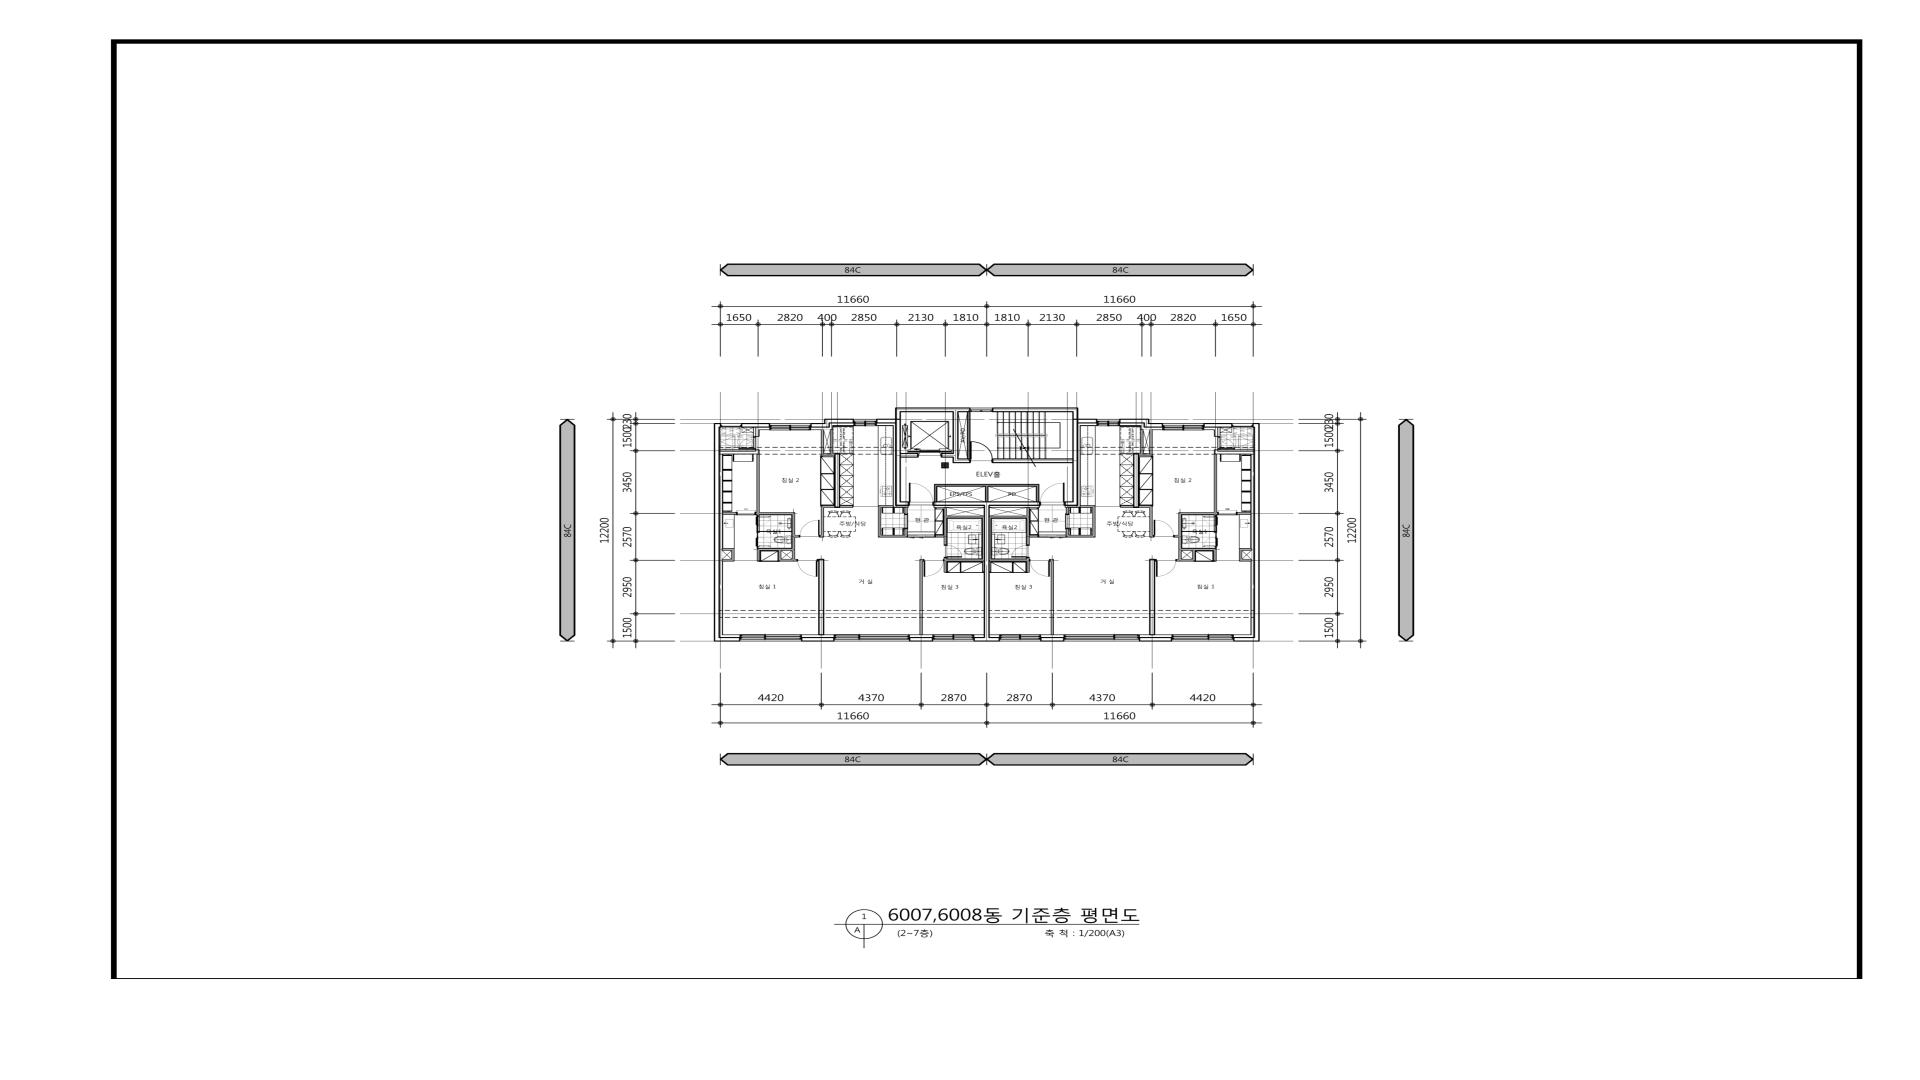background: (0, 0, 1920, 1080)
door: (909, 483, 932, 505), (1040, 483, 1064, 505), (1154, 520, 1175, 538), (796, 559, 819, 576), (1155, 559, 1178, 576), (799, 520, 820, 537), (923, 559, 944, 576), (1030, 559, 1050, 576), (944, 545, 963, 558), (1011, 545, 1030, 558), (738, 436, 756, 450), (736, 512, 756, 516), (907, 535, 935, 538), (1218, 512, 1237, 516)
wall: (713, 423, 721, 637), (1253, 423, 1259, 637), (984, 506, 989, 637), (932, 501, 1040, 506), (1072, 418, 1079, 501), (818, 559, 824, 636), (895, 418, 901, 501), (1150, 559, 1155, 636), (997, 407, 1072, 413), (901, 407, 971, 413), (1133, 454, 1139, 508), (952, 413, 959, 463), (1050, 559, 1054, 636), (919, 559, 923, 634), (997, 459, 1072, 463), (835, 454, 840, 508), (938, 484, 1036, 487), (791, 512, 795, 559), (967, 413, 971, 459), (819, 508, 824, 538), (1179, 512, 1218, 516), (1215, 454, 1217, 513), (757, 454, 760, 512), (1026, 508, 1030, 545), (756, 512, 791, 516), (713, 637, 740, 642), (973, 637, 1000, 642), (1150, 505, 1154, 538), (1092, 505, 1096, 538), (1139, 637, 1172, 641), (760, 547, 793, 551), (802, 637, 833, 641), (1040, 637, 1064, 642), (1120, 419, 1150, 423), (1179, 514, 1182, 559), (989, 516, 992, 559), (981, 516, 984, 559), (1204, 423, 1233, 427), (824, 419, 853, 423), (741, 423, 770, 427), (989, 559, 1027, 562), (1234, 637, 1259, 641), (947, 559, 984, 562), (944, 508, 947, 545), (1079, 418, 1097, 423), (877, 418, 895, 423), (1182, 549, 1217, 551), (992, 516, 1026, 518), (947, 516, 981, 518), (901, 452, 918, 458), (910, 637, 932, 641), (878, 505, 881, 537), (1143, 423, 1163, 427), (1064, 501, 1079, 506), (811, 423, 829, 427), (1065, 535, 1092, 538), (881, 535, 907, 538), (1072, 407, 1079, 418), (895, 501, 909, 506), (934, 484, 938, 501), (1141, 430, 1143, 455), (1150, 430, 1153, 454), (942, 452, 953, 458), (831, 430, 833, 454), (822, 430, 824, 454), (895, 407, 901, 419), (985, 487, 989, 501), (1176, 559, 1195, 562), (1217, 450, 1254, 451), (778, 559, 796, 562), (1213, 550, 1217, 562), (959, 459, 971, 463), (720, 450, 756, 451), (1036, 484, 1039, 501), (944, 558, 947, 572), (1027, 558, 1030, 572), (1237, 512, 1251, 514), (820, 505, 835, 508), (1240, 549, 1242, 562), (1080, 505, 1093, 508), (840, 505, 853, 508), (757, 549, 760, 562), (732, 549, 735, 562), (1121, 505, 1133, 508), (881, 505, 893, 508), (1139, 505, 1150, 508), (721, 559, 732, 562), (721, 549, 732, 551), (1065, 529, 1069, 535), (1242, 549, 1251, 551), (1192, 550, 1195, 559), (1217, 427, 1220, 436), (1242, 559, 1251, 562), (935, 535, 944, 538), (959, 434, 968, 436), (753, 427, 756, 436), (1065, 506, 1068, 514), (1030, 535, 1038, 538), (778, 551, 781, 559), (905, 508, 907, 514), (905, 529, 907, 535), (822, 454, 835, 455), (723, 513, 736, 514), (795, 535, 799, 538), (1175, 535, 1179, 538), (1139, 455, 1153, 455)
window: (833, 634, 910, 641), (1064, 634, 1139, 641), (740, 634, 802, 641), (1172, 634, 1234, 641), (932, 634, 975, 641), (770, 423, 811, 430), (1000, 634, 1040, 641), (1163, 423, 1204, 430), (853, 419, 877, 426), (1097, 419, 1120, 426), (721, 423, 741, 427), (1233, 423, 1253, 427)
